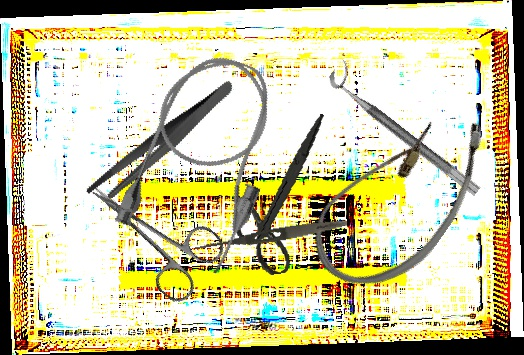Cannula: (295, 78, 508, 314), (109, 40, 301, 279)
Dressing Forceps: (68, 79, 255, 207), (193, 215, 349, 257)
Fixation Ring: (325, 59, 491, 197)
Iris Scissors: (70, 156, 231, 308), (221, 114, 345, 279)
